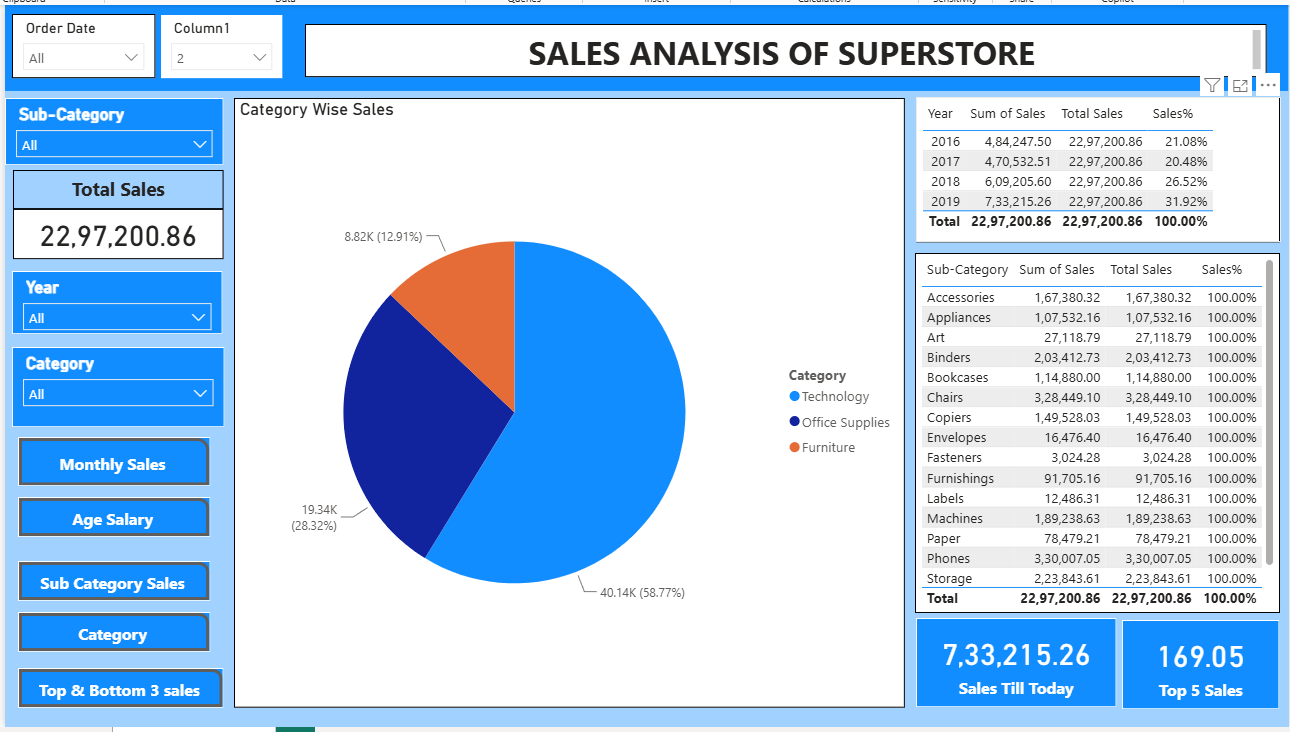

The page's visual inventory and layout, read from the dashboard file:
{"tool":"powerbi","page":{"name":"Duplicate of Page 2","canvas":[1280,720],"ordinal":0},"visuals":[{"type":"shape","box":[0,0,1279.7,85.7],"z":0},{"type":"textbox","box":[299.5,19.2,959,53.4],"z":1000},{"type":"pieChart","title":"Category Wise Sales","fields":{"Category":["Orders.Category"],"Y":["Orders.Dynamic"]},"box":[228.9,93.1,669.3,608.1],"z":3000},{"type":"tableEx","fields":{"Values":["Orders.Sub-Category","Sum(Orders.Sales)","Orders.Total Sales","Orders.Sales%"]},"box":[907.1,247.1,364.3,358.6],"z":5000},{"type":"slicer","fields":{"Values":["Orders.Sub-Category"]},"box":[0,93.1,218.2,66.5],"z":6000},{"type":"tableEx","fields":{"Values":["Calendar.Year","Sum(Orders.Sales)","Orders.Total Sales","Orders.Sales%"]},"box":[908.8,91.8,363.2,145],"z":7000},{"type":"card","fields":{"Values":["Sum(Orders.Sales)"]},"box":[8.1,203.7,209.7,50.4],"z":8000},{"type":"slicer","fields":{"Values":["Orders.Order Date"]},"box":[7.1,8.6,142.9,64.3],"z":9000},{"type":"textbox","box":[8.1,164.4,209.7,39.3],"z":10000},{"type":"slicer","fields":{"Values":["Calendar.Year"]},"box":[7.1,265.2,209.7,62.5],"z":11000},{"type":"actionButton","title":"Monthly sales","box":[13.3,431.1,191.6,49.2],"z":14000},{"type":"actionButton","title":"Age salary","box":[13.3,491,191.6,39.9],"z":15000},{"type":"actionButton","title":"SubCategory Sales","box":[13.3,554.8,191.6,39.9],"z":16000},{"type":"actionButton","title":"Category","box":[13.3,605.4,191.6,39.9],"z":17000},{"type":"actionButton","title":"TOP & BOTTOM 3","box":[13.3,661.3,204.9,39.9],"z":18000},{"type":"slicer","fields":{"Values":["Orders.Category"]},"box":[6.7,340.6,211.6,79.8],"z":19000},{"type":"card","fields":{"Values":["Orders.Sales Till Today"]},"box":[908.6,611.4,200,88.6],"z":20000},{"type":"card","fields":{"Values":["Orders.Top 5"]},"box":[1114.3,612.9,157.1,88.6],"z":21000},{"type":"slicer","fields":{"Values":["Table.Column1"]},"box":[155.7,10,121.4,62.9],"z":22000}]}

Visuals, with their boxes in screenshot pixels (x1, y1, x2, y2):
shape: {"x1": 7, "y1": 3, "x2": 1279, "y2": 89}
textbox: {"x1": 304, "y1": 22, "x2": 1258, "y2": 76}
"Category Wise Sales" pieChart: {"x1": 234, "y1": 96, "x2": 899, "y2": 700}
tableEx - Orders.Sub-Category x Sum(Orders.Sales): {"x1": 908, "y1": 249, "x2": 1270, "y2": 605}
slicer - Orders.Sub-Category: {"x1": 7, "y1": 96, "x2": 224, "y2": 162}
tableEx - Calendar.Year x Sum(Orders.Sales): {"x1": 910, "y1": 95, "x2": 1271, "y2": 239}
card - Sum(Orders.Sales): {"x1": 15, "y1": 206, "x2": 223, "y2": 256}
slicer - Orders.Order Date: {"x1": 14, "y1": 12, "x2": 156, "y2": 76}
textbox: {"x1": 15, "y1": 167, "x2": 223, "y2": 206}
slicer - Calendar.Year: {"x1": 14, "y1": 267, "x2": 222, "y2": 329}
"Monthly sales" actionButton: {"x1": 20, "y1": 432, "x2": 210, "y2": 481}
"Age salary" actionButton: {"x1": 20, "y1": 491, "x2": 210, "y2": 531}
"SubCategory Sales" actionButton: {"x1": 20, "y1": 555, "x2": 210, "y2": 594}
"Category" actionButton: {"x1": 20, "y1": 605, "x2": 210, "y2": 645}
"TOP & BOTTOM 3" actionButton: {"x1": 20, "y1": 661, "x2": 224, "y2": 700}
slicer - Orders.Category: {"x1": 13, "y1": 342, "x2": 224, "y2": 421}
card - Orders.Sales Till Today: {"x1": 910, "y1": 611, "x2": 1109, "y2": 699}
card - Orders.Top 5: {"x1": 1114, "y1": 613, "x2": 1270, "y2": 701}
slicer - Table.Column1: {"x1": 161, "y1": 13, "x2": 282, "y2": 76}
